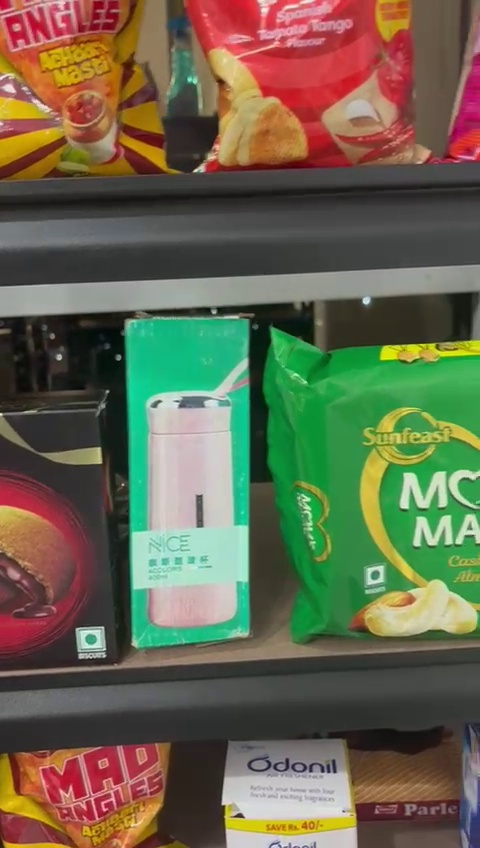Bottle: (129, 320, 251, 644)
